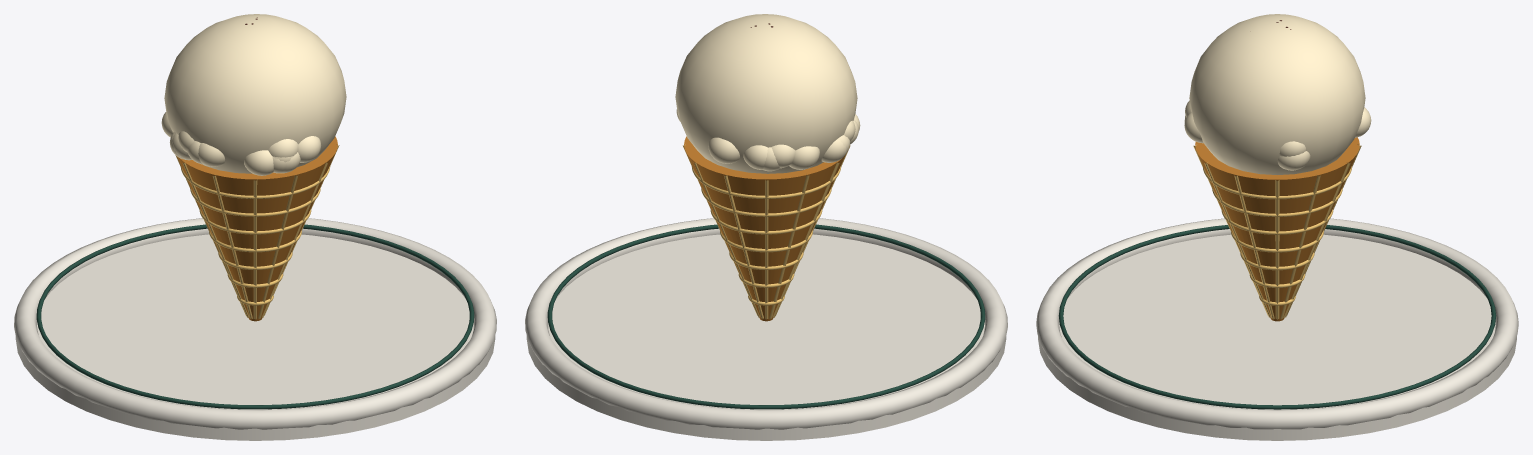
Rendered from icecream-small.glb.
3 views of the same model, side by side, from view 1: azimuth 30°, elevation 25°; view 2: azimuth 150°, elevation 25°; view 3: azimuth 270°, elevation 25° (orthographic).
Parts seen in each view (by area): view 1: Morsel original icecream small, vanilla scoop, waffle cone; view 2: Morsel original icecream small, vanilla scoop, waffle cone; view 3: Morsel original icecream small, vanilla scoop, waffle cone.
Part boxes in pixels (bbox=[...]): Morsel original icecream small: bbox=[14, 17, 496, 440]; vanilla scoop: bbox=[164, 14, 346, 173]; waffle cone: bbox=[177, 136, 337, 321]; Morsel original icecream small: bbox=[525, 23, 1007, 440]; vanilla scoop: bbox=[675, 14, 857, 173]; waffle cone: bbox=[684, 136, 845, 321]; Morsel original icecream small: bbox=[1036, 20, 1518, 440]; vanilla scoop: bbox=[1189, 14, 1365, 174]; waffle cone: bbox=[1195, 137, 1359, 321].
Bounding box in the file's own units: 2.52 × 1.82 × 2.52.
